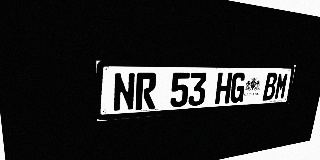3: (188, 73, 207, 106)
5: (170, 73, 190, 108)
B: (262, 73, 278, 101)
G: (229, 73, 247, 103)
H: (215, 73, 233, 104)
M: (274, 73, 289, 100)
N: (113, 73, 136, 112)
R: (135, 73, 157, 110)
